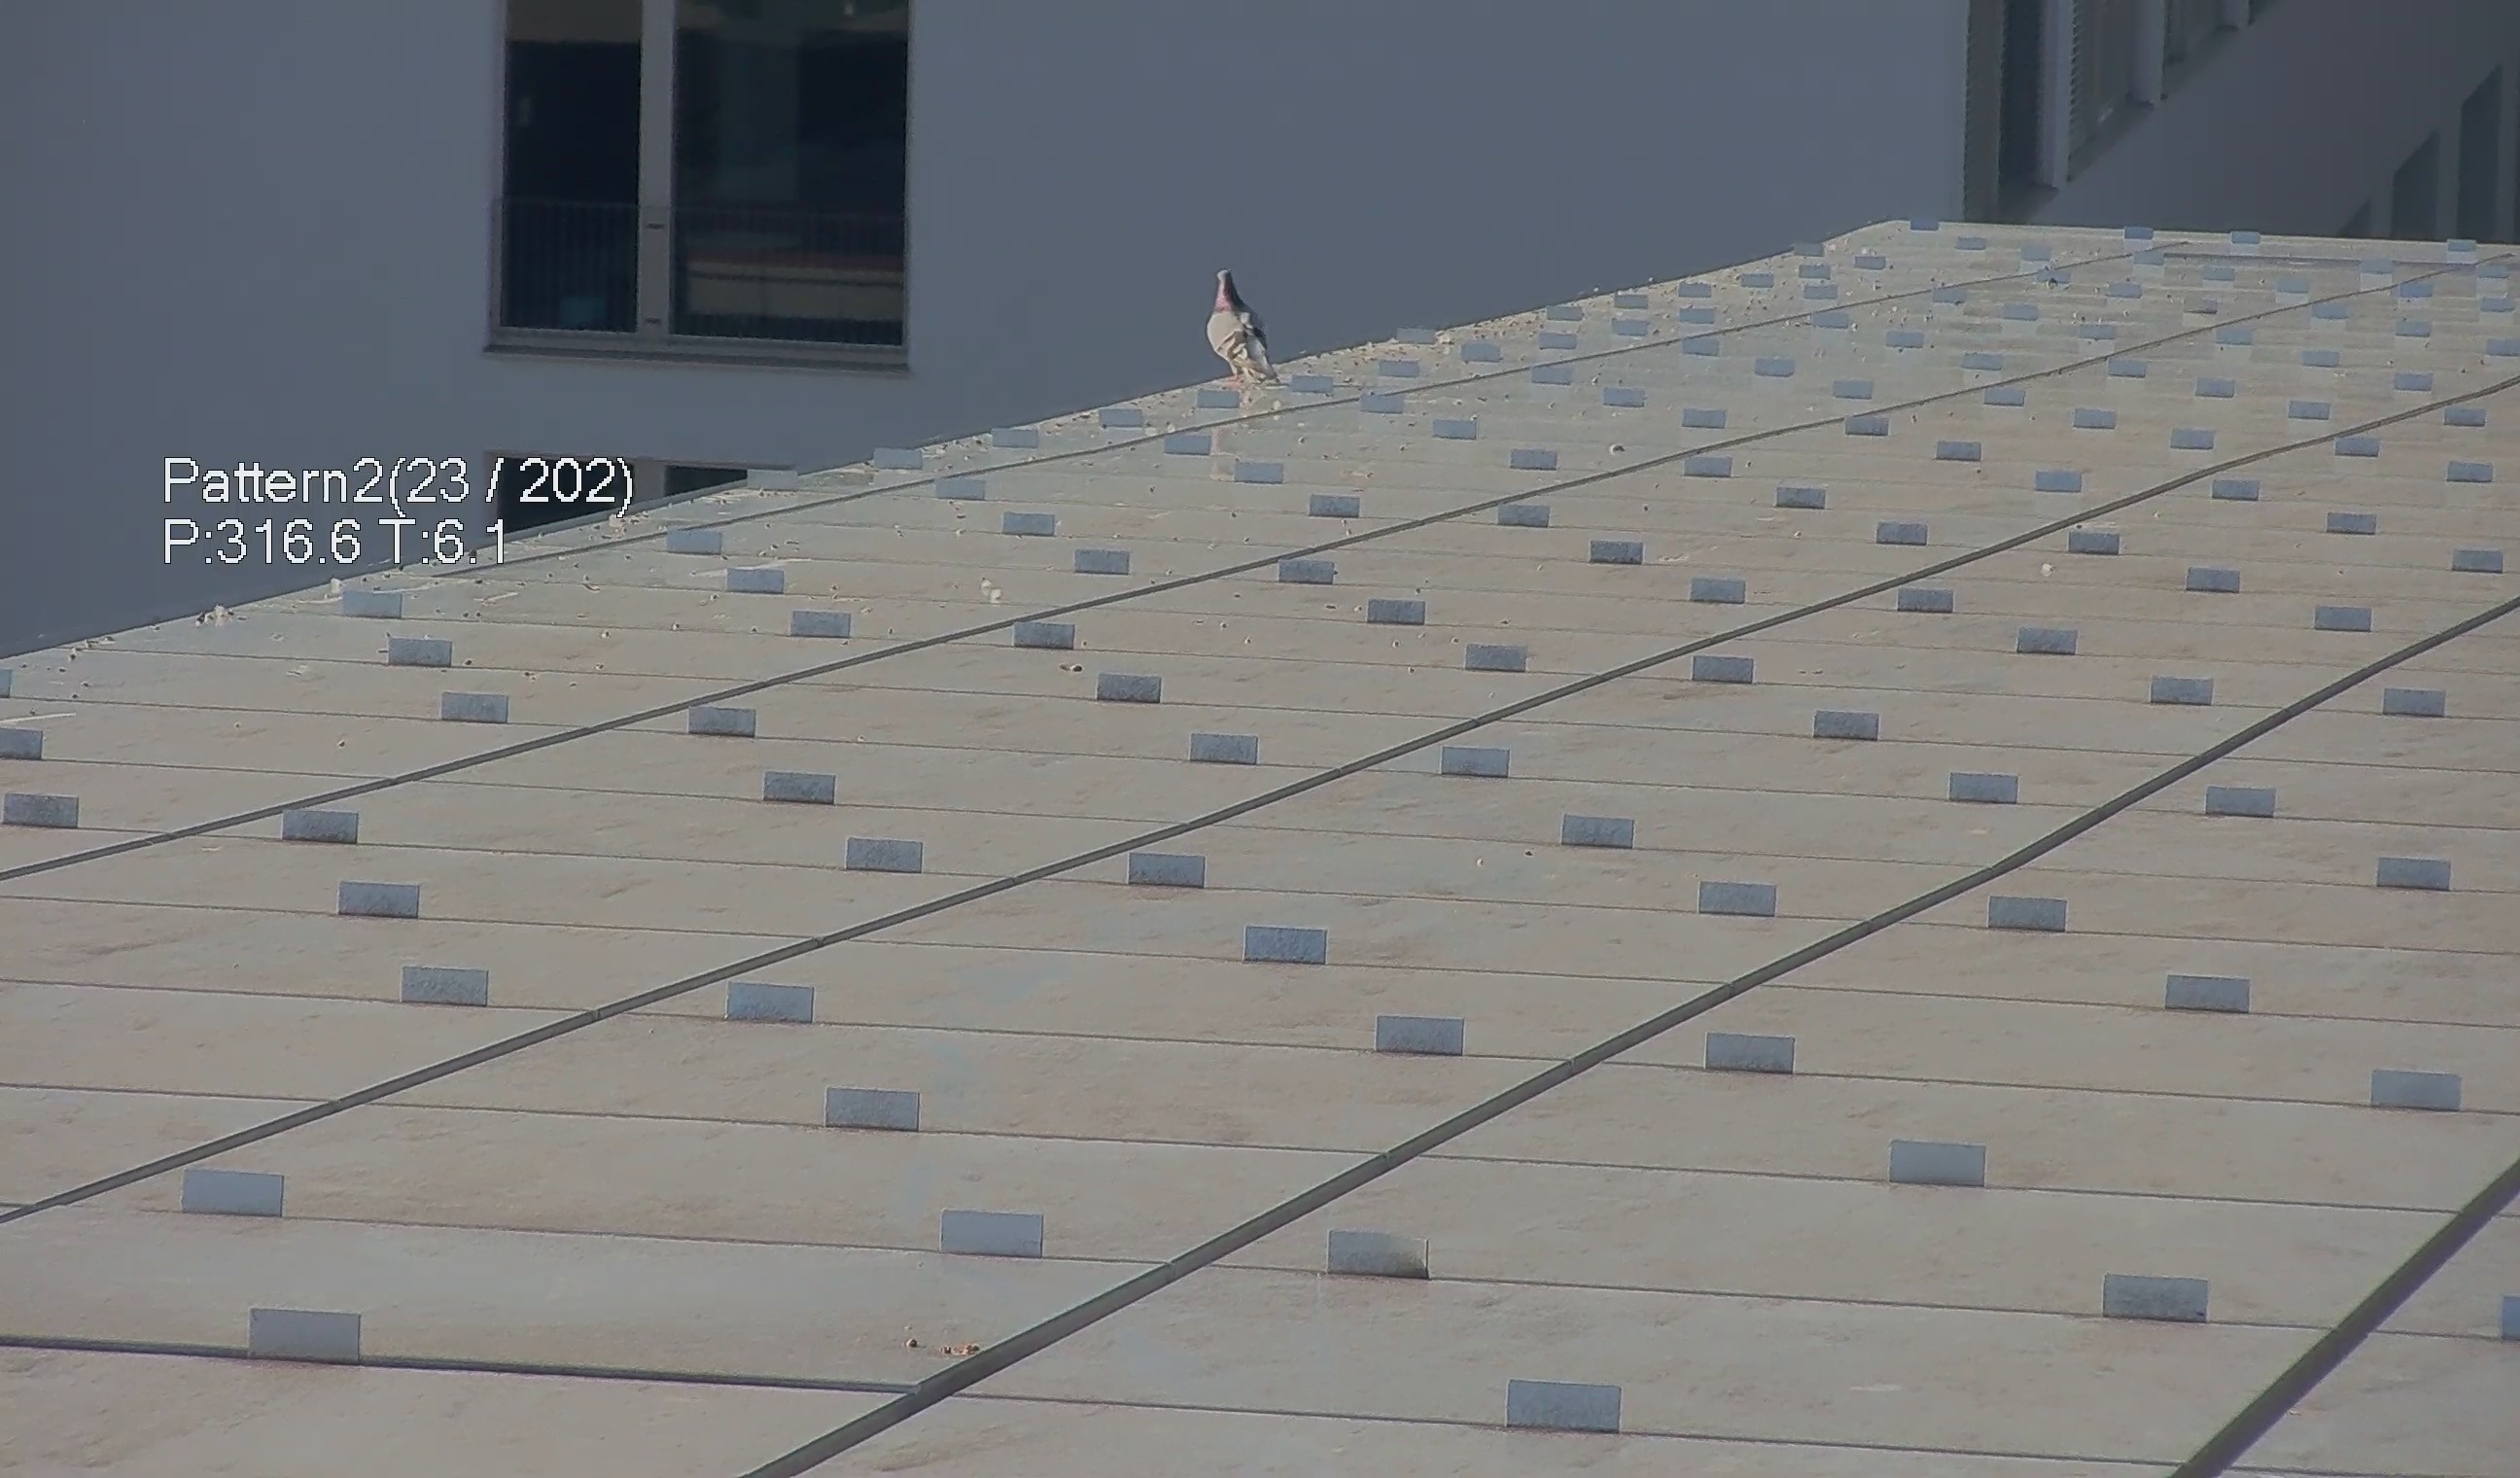Pigeon: (1191, 255, 1303, 401)
